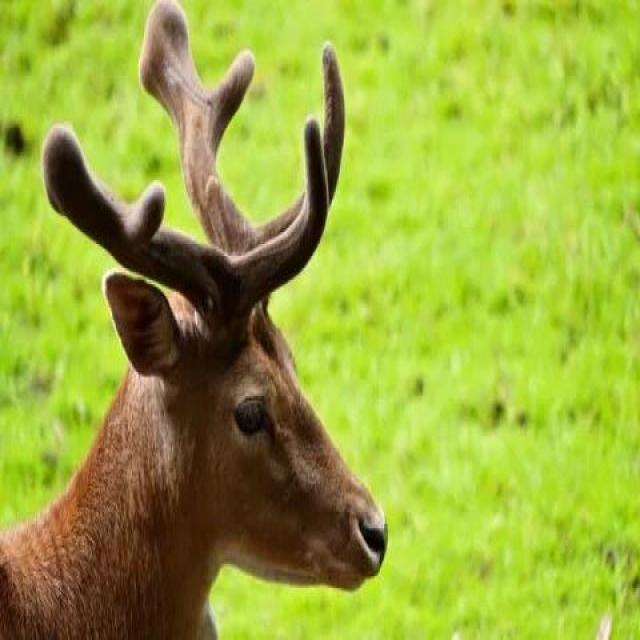deer: (25, 80, 388, 631)
